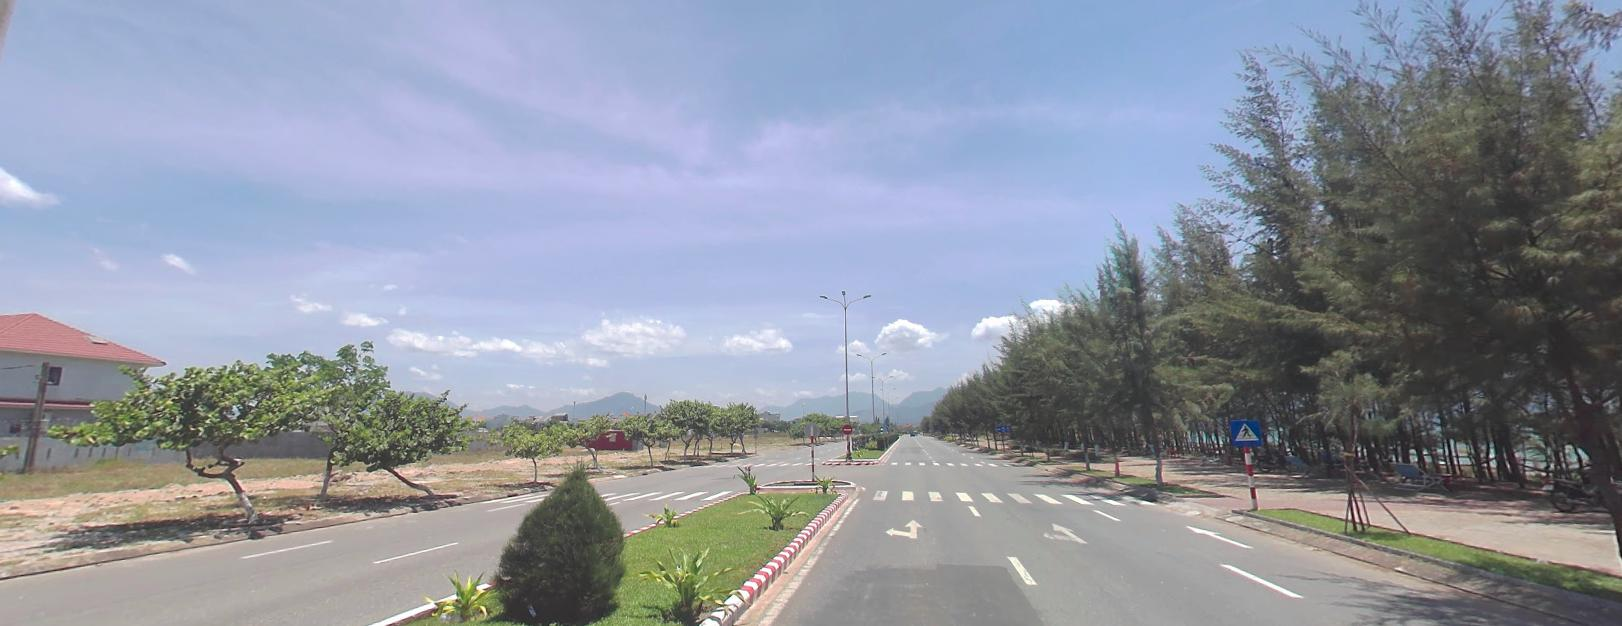Cam nguoc chieu: (841, 422, 851, 433)
